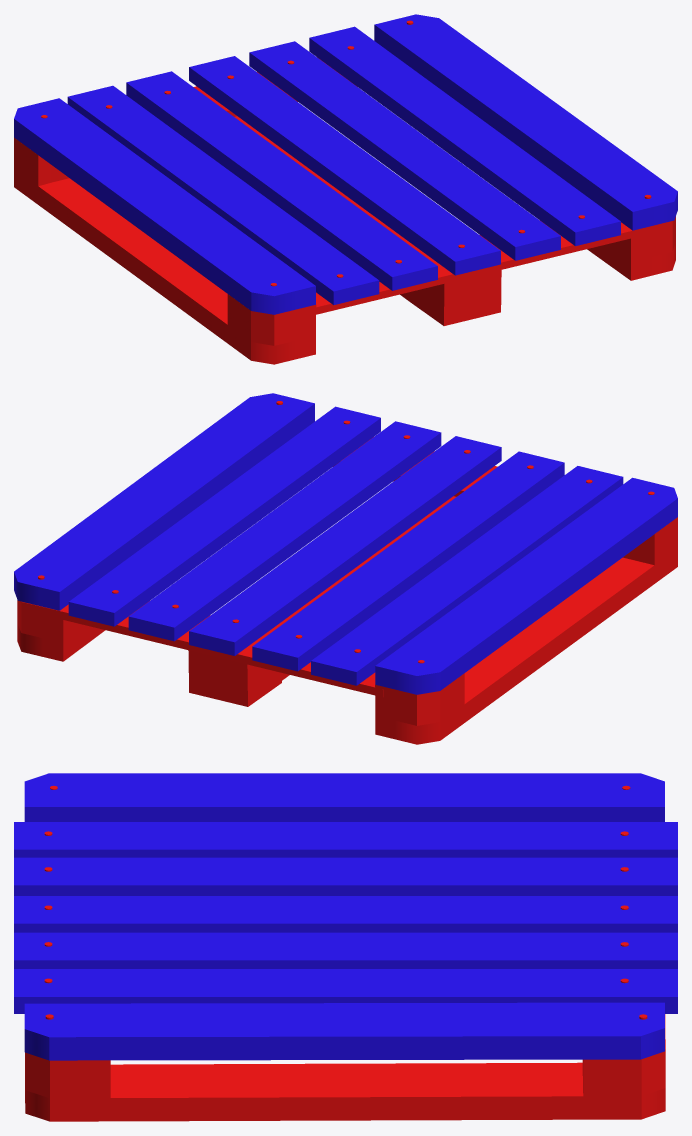
File: Pallet_Capstone.FBX
3 views of the same model, one above another, from view 1: azimuth 30°, elevation 25°; view 2: azimuth 150°, elevation 25°; view 3: azimuth 270°, elevation 25° (orthographic). The views are drawn at different scales.
Parts seen in each view (by area): view 1: coppypal; view 2: coppypal; view 3: coppypal.
Part boxes in pixels (<box>): coppypal: <box>14,14,677,364</box>; coppypal: <box>14,393,677,744</box>; coppypal: <box>14,773,677,1121</box>.
Size of the model in its own units: 293 by 47.75 by 317.
